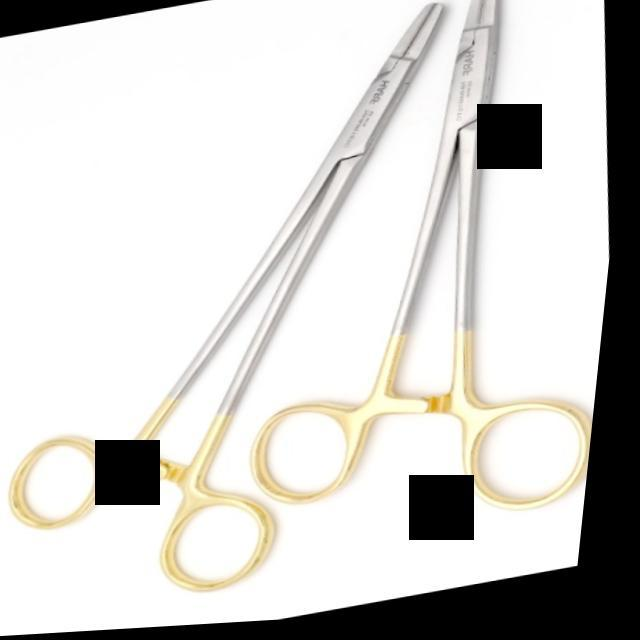Needle Holder: (0, 1, 516, 636), (199, 0, 640, 568)
